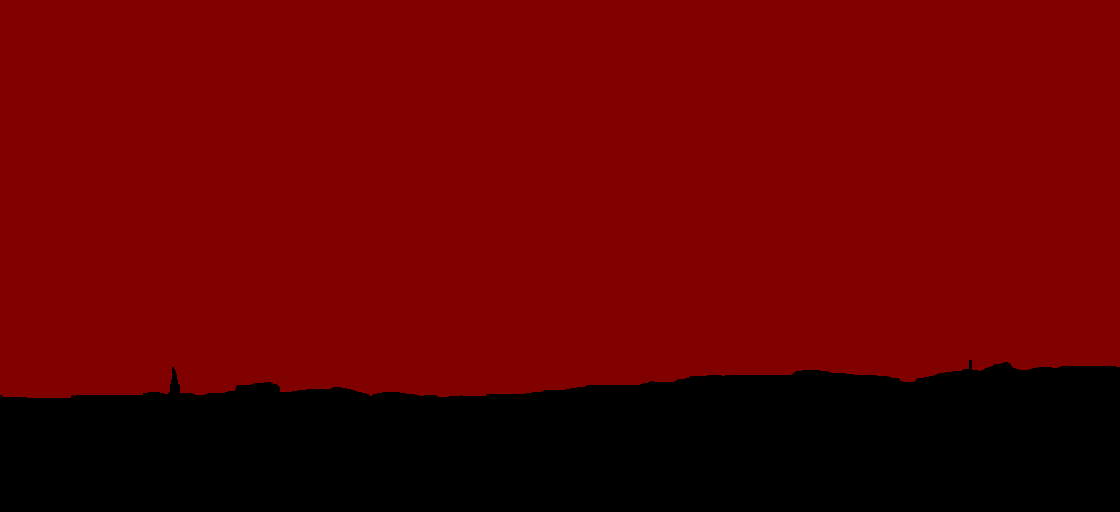Sky: (1, 1, 1119, 397)
